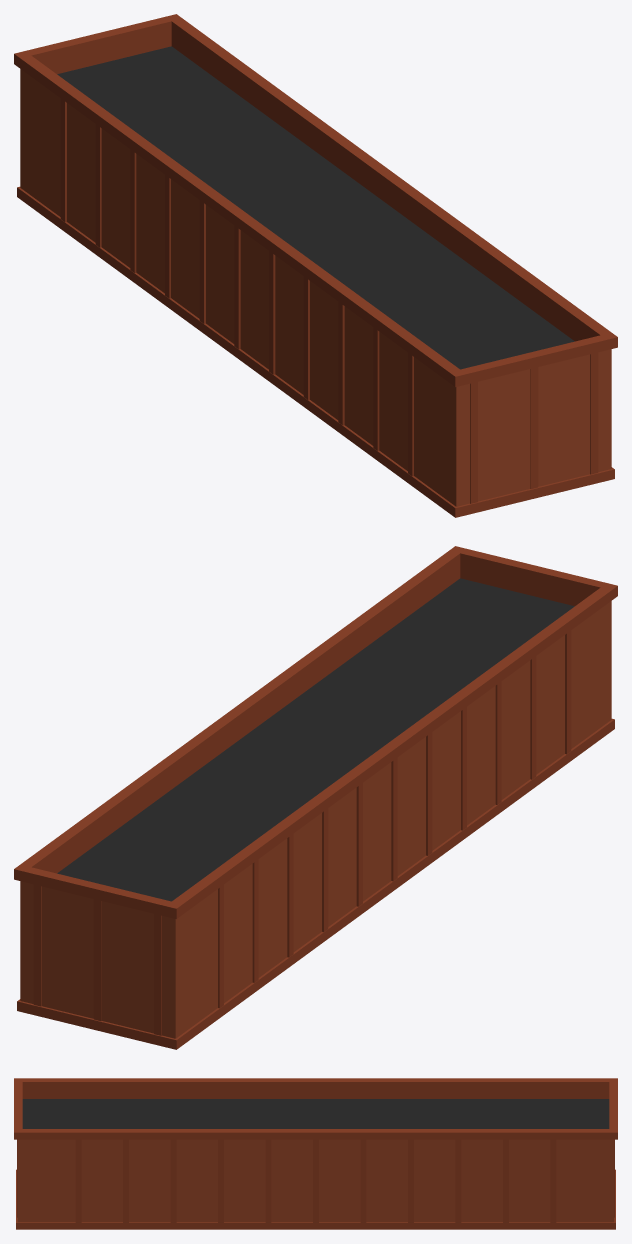
Rendered from SM_Trains_TrainPart_05.glb.
3 views of the same model, one above another, from view 1: azimuth 30°, elevation 25°; view 2: azimuth 150°, elevation 25°; view 3: azimuth 270°, elevation 25° (orthographic). The views are drawn at different scales.
Visible parts, largest first — view 1: SM_Trains_TrainPart_05; view 2: SM_Trains_TrainPart_05; view 3: SM_Trains_TrainPart_05.
Part boxes in pixels (left/top/right/bottom): SM_Trains_TrainPart_05: left=14, top=14, right=617, bottom=517; SM_Trains_TrainPart_05: left=14, top=546, right=617, bottom=1049; SM_Trains_TrainPart_05: left=14, top=1078, right=617, bottom=1229.
Bounding box in the file's own units: 3.62 × 3.04 × 17.05.
Materials: 1 (1 with a texture image).
